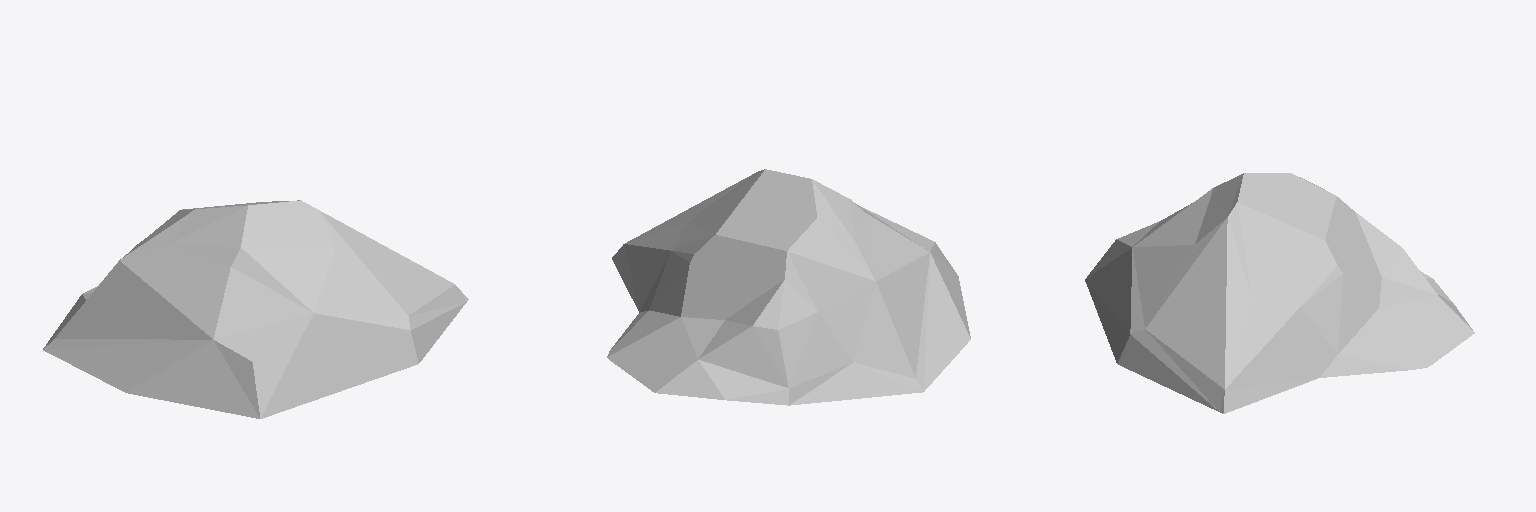
The model's file is Mountain_1.obj.
The picture shows the model from 3 angles: view 1: azimuth 30°, elevation 25°; view 2: azimuth 150°, elevation 25°; view 3: azimuth 270°, elevation 25°; orthographic projection.
Parts seen in each view (by area): view 1: Rock.008_Rock.013; view 2: Rock.008_Rock.013; view 3: Rock.008_Rock.013.
Part boxes in pixels (x1,y1,x2,y2): Rock.008_Rock.013: (43,200,468,418); Rock.008_Rock.013: (607,169,970,405); Rock.008_Rock.013: (1085,173,1474,413).
Size of the model in its own units: 86.07 by 31.23 by 78.78.